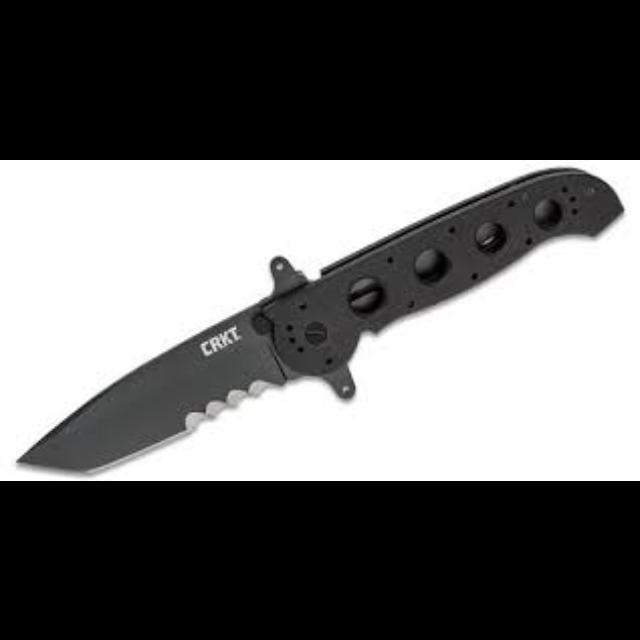knife: (14, 163, 624, 471)
